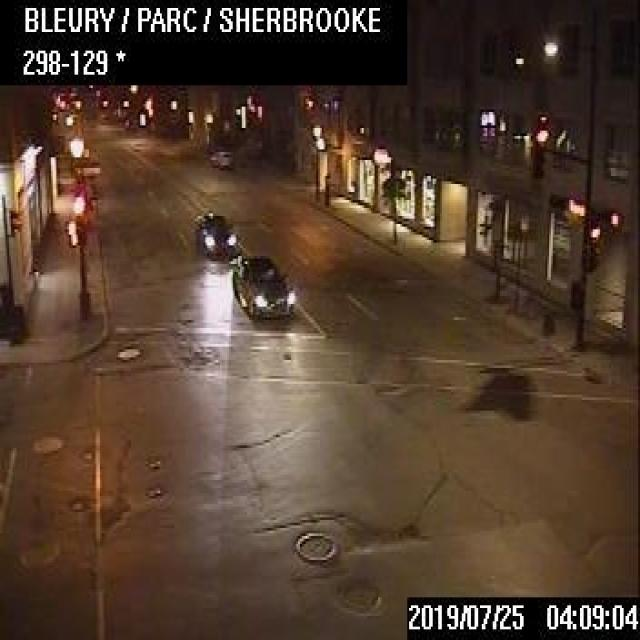vehicle: (230, 254, 291, 320), (192, 209, 238, 255), (214, 149, 231, 168)
